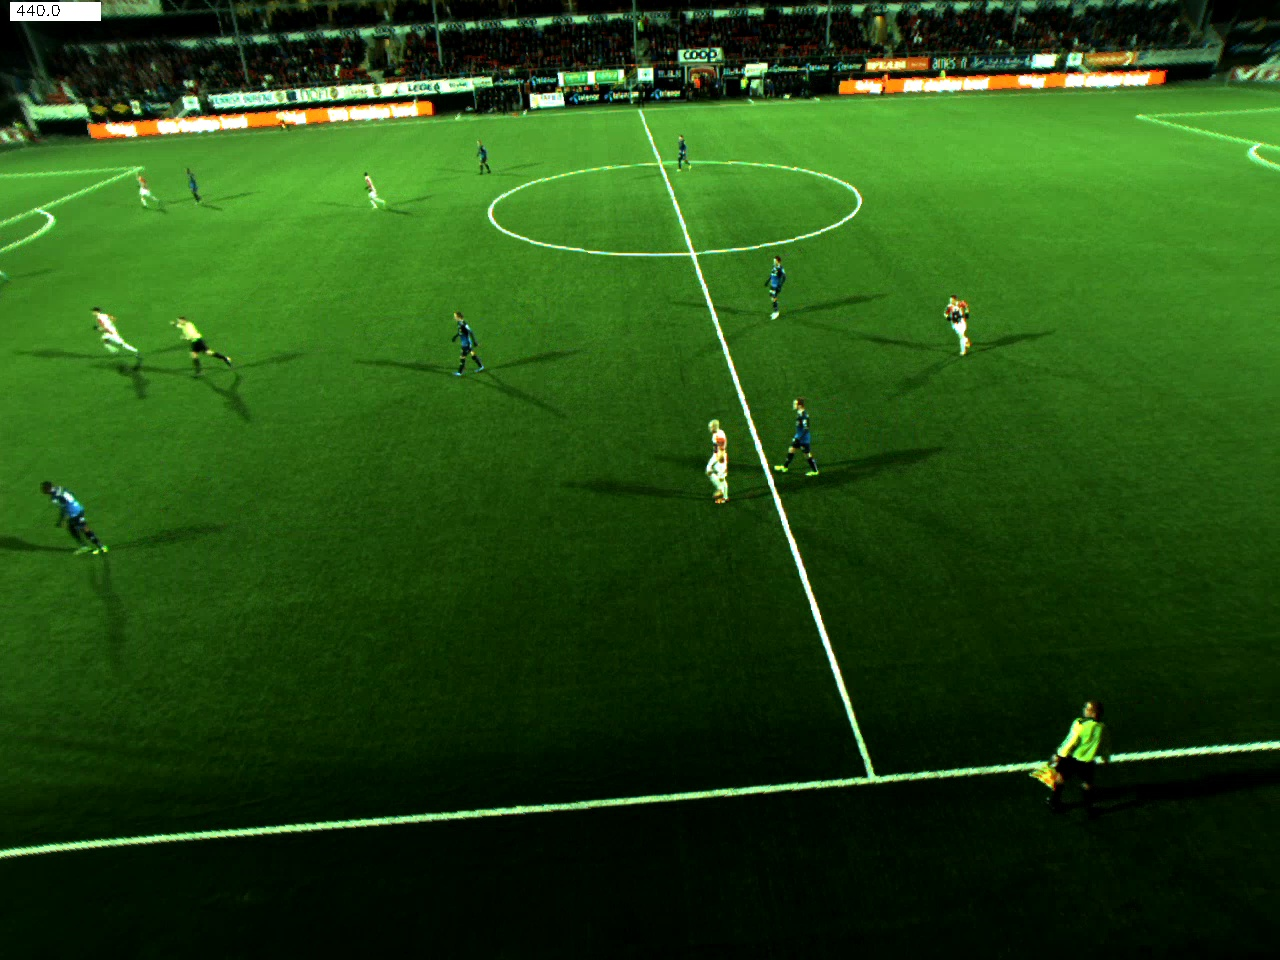blue: (35, 473, 121, 569), (778, 396, 823, 482), (438, 309, 488, 381), (760, 252, 794, 324), (469, 139, 501, 174), (669, 134, 695, 170), (178, 162, 205, 199)
red: (699, 405, 746, 502), (85, 307, 144, 369), (345, 166, 401, 213), (942, 284, 977, 355), (127, 174, 177, 209)
yellow: (1030, 698, 1113, 809), (160, 306, 241, 384)
